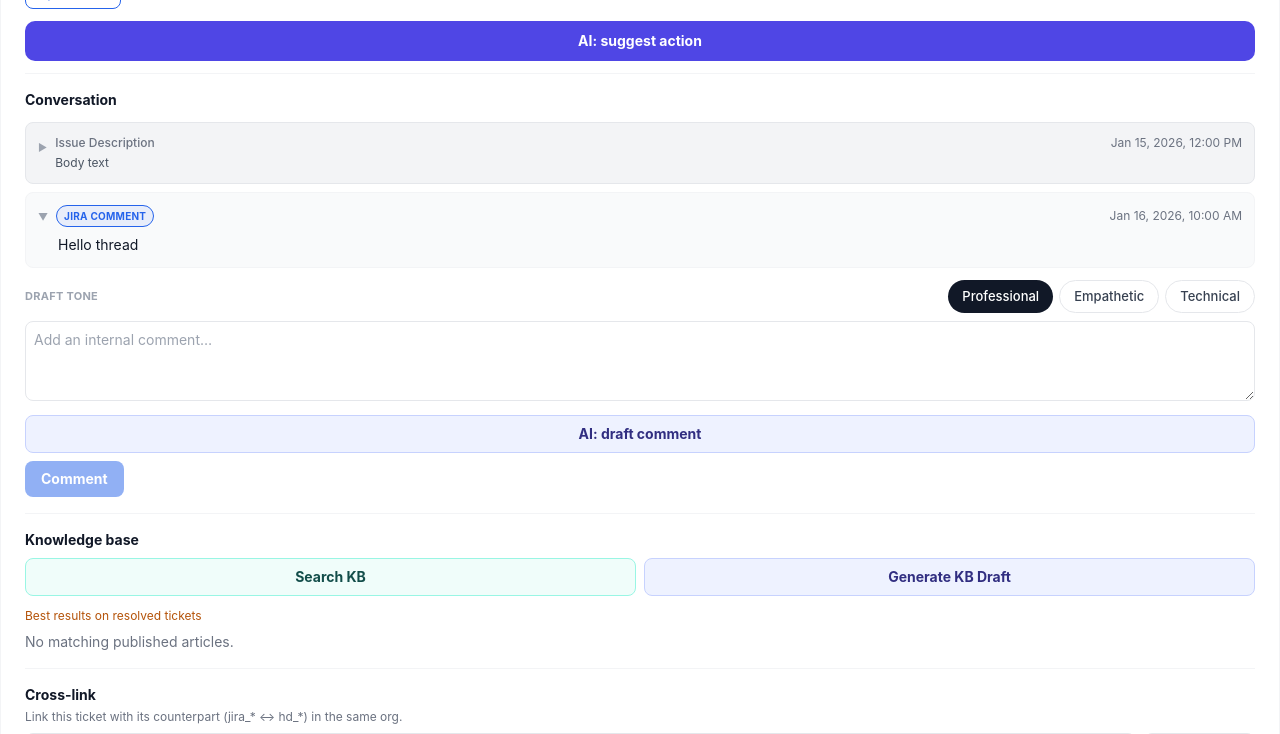
TicketDetailContent › disables save and generate after KB draft is saved
(page scrolled)
Click the button "Generate KB Draft" at [950, 577], box [644,558,1255,596]
(page scrolled)
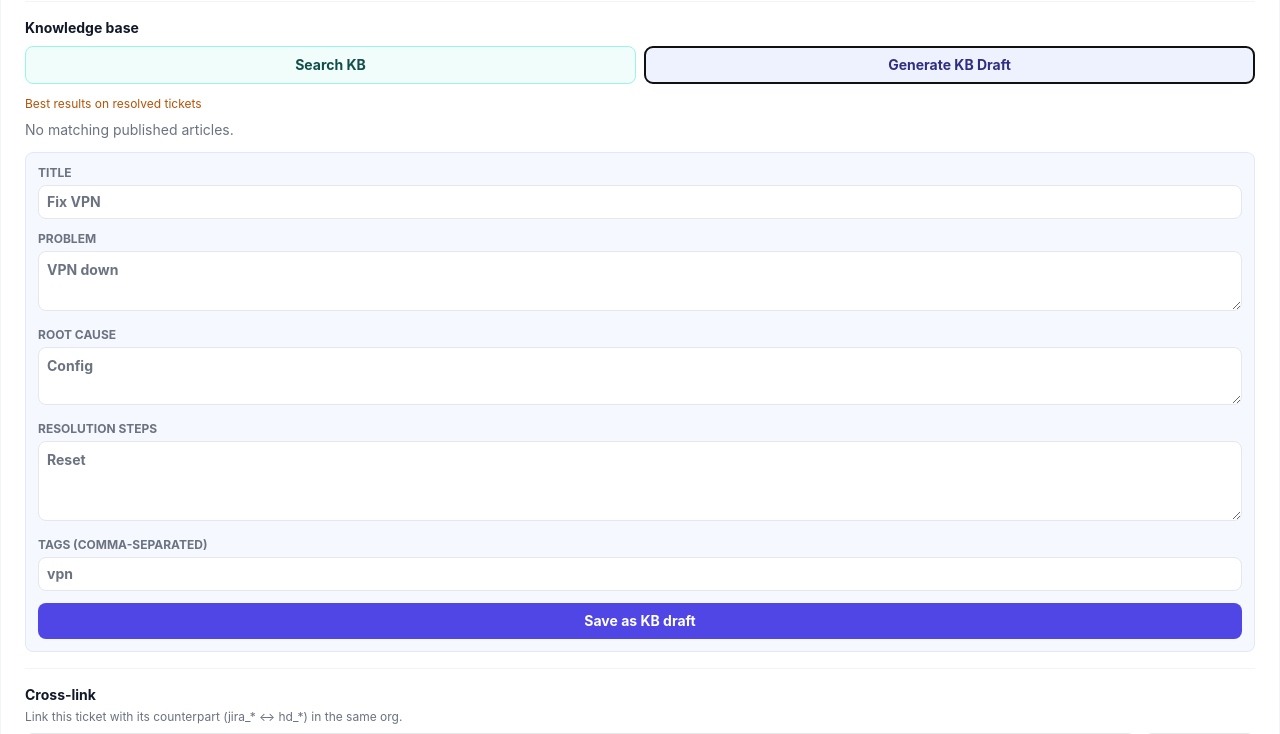
Now the field showing "Fix VPN" is shown, box [38,185,1242,219]
Click the button "Save as KB draft" at [640, 621], box [38,603,1242,639]
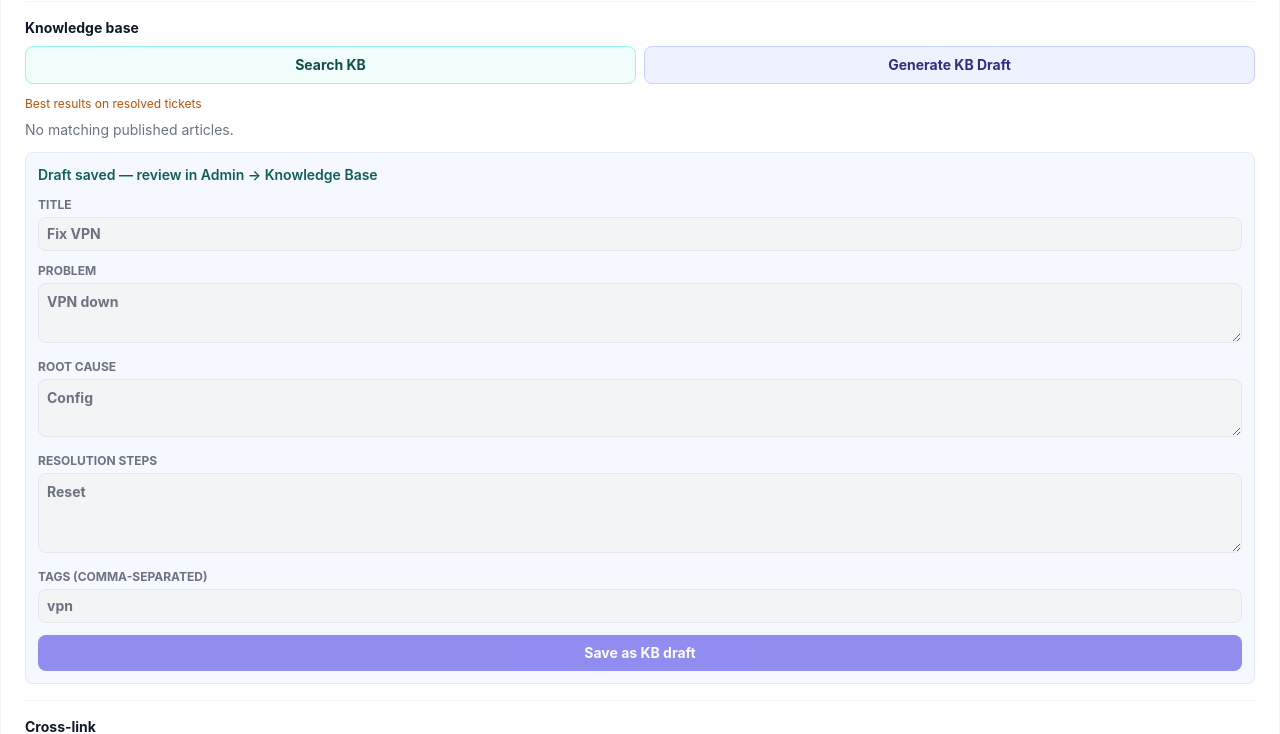
Now the button "Save as KB draft" is disabled, box [38,635,1242,671]
Now the text "Draft saved — review in Admin → Knowledge Base" is shown, box [38,166,378,183]
